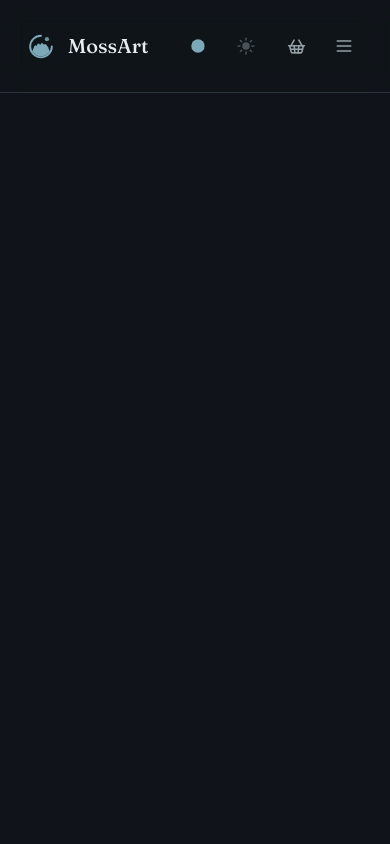
Nav › opens the mobile menu when the toggle is pressed
Step 1. Click the button named "open menu" → (344, 46), box [322,24,366,68]
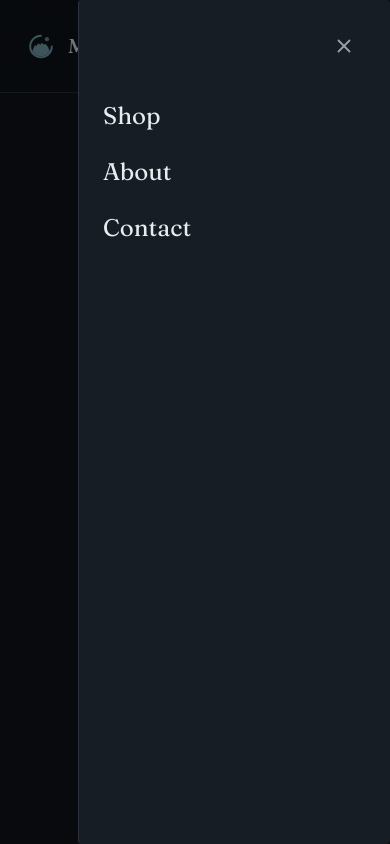
Check: the dialog is shown
